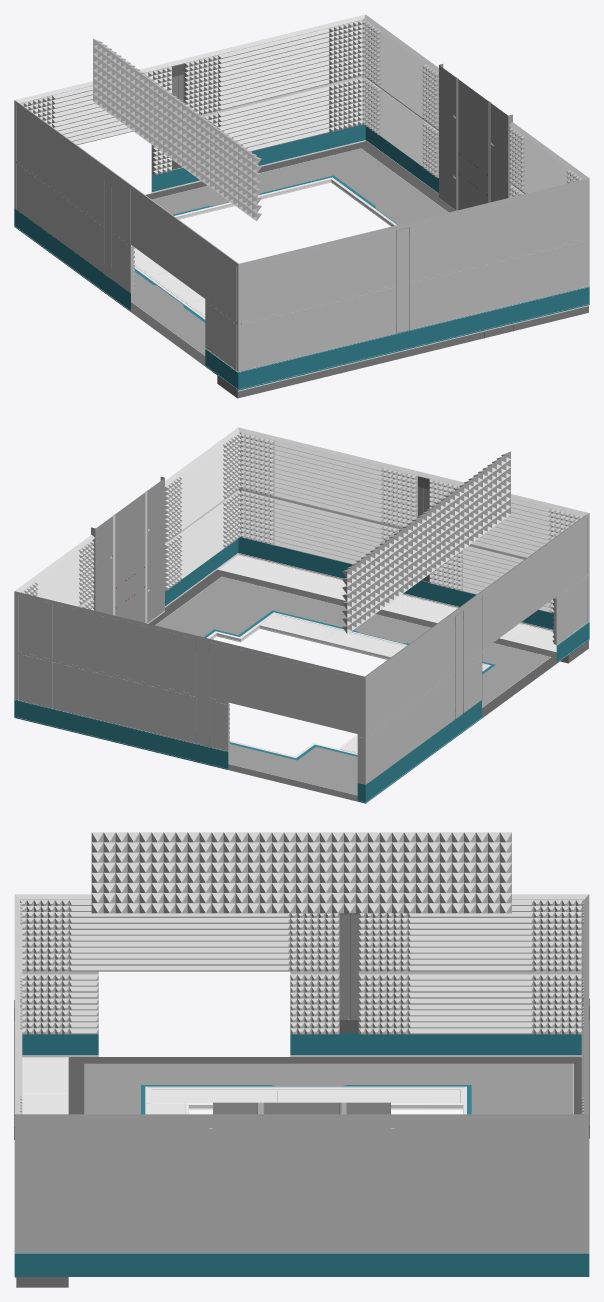
The picture shows the model from 3 angles, top to bottom: view 1: azimuth 30°, elevation 25°; view 2: azimuth 150°, elevation 25°; view 3: azimuth 270°, elevation 25°; orthographic projection. The views are drawn at different scales.
Parts seen in each view (by area): view 1: SM_H_Building_FutureTech_HBlue_01_InterWall_12; view 2: SM_H_Building_FutureTech_HBlue_01_InterWall_12; view 3: SM_H_Building_FutureTech_HBlue_01_InterWall_12.
Boxes of the visible parts, left/top/right/bottom form: SM_H_Building_FutureTech_HBlue_01_InterWall_12: left=14, top=14, right=589, bottom=398; SM_H_Building_FutureTech_HBlue_01_InterWall_12: left=14, top=427, right=589, bottom=803; SM_H_Building_FutureTech_HBlue_01_InterWall_12: left=14, top=832, right=589, bottom=1287.
Bounding box in the file's own units: 1108 × 1005 × 565.
